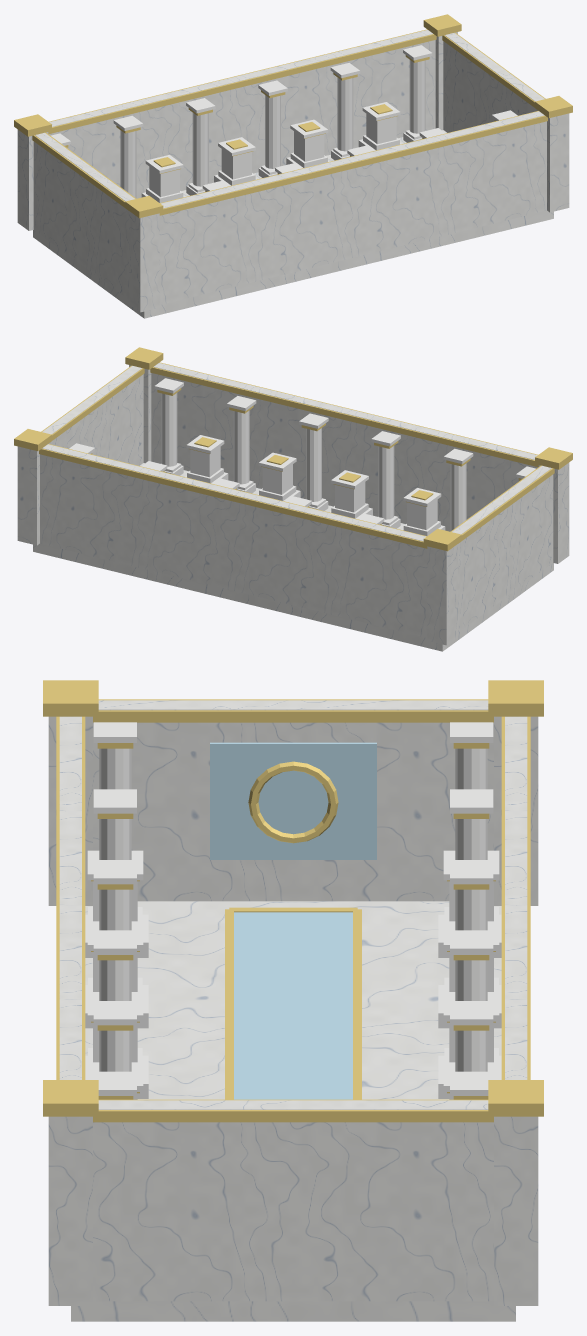
File: west.glb
3 renders of one model, top to bottom at view 1: azimuth 30°, elevation 25°; view 2: azimuth 150°, elevation 25°; view 3: azimuth 270°, elevation 25°, orthographic. The views are drawn at different scales.
Visible parts, largest first — view 1: W_Wall_S, W_Wall_N, W_Wall_Far, W_Floor, W_Wall_East, W_Cornice_N, W_Cornice_S, W_Post.001, W_Post.003, W_Post, Col_Shaft_0, Col_Shaft_3 (+14 smaller); view 2: W_Wall_N, W_Wall_S, W_Wall_Far, W_Floor, W_Wall_East, W_Cornice_S, W_Cornice_N, W_Post, W_Post.002, W_Post.001, Col_Shaft_6, Col_Shaft_9 (+14 smaller); view 3: W_Wall_East, W_Wall_Far, W_Floor, Runner_Field, W_Niche, W_Post.002, W_Post.003, W_Wall_N, W_Wall_S, W_Cornice_Far, W_Cornice_East, W_Post (+32 smaller).
Boxes of the visible parts, x1,y1,x2,y2 form: W_Wall_S: (159, 111, 546, 304); W_Wall_N: (49, 30, 435, 198); W_Wall_Far: (33, 132, 134, 299); W_Floor: (33, 130, 553, 318); W_Wall_East: (443, 33, 544, 132); W_Cornice_N: (48, 29, 436, 134); W_Cornice_S: (159, 111, 547, 215); W_Post.001: (129, 211, 159, 312); W_Post.003: (547, 113, 569, 212); W_Post: (17, 129, 48, 230); Col_Shaft_0: (409, 60, 425, 133); Col_Shaft_3: (192, 113, 208, 186); W_Wall_N: (40, 444, 427, 637); W_Wall_S: (151, 363, 537, 531); W_Wall_Far: (452, 465, 553, 632); W_Floor: (33, 463, 553, 651); W_Wall_East: (42, 366, 143, 465); W_Cornice_S: (150, 362, 538, 467); W_Cornice_N: (39, 444, 427, 548); W_Post: (427, 544, 457, 645); W_Post.002: (17, 446, 39, 545); W_Post.001: (538, 462, 569, 563); Col_Shaft_6: (161, 393, 177, 466); Col_Shaft_9: (378, 446, 394, 519); W_Wall_East: (93, 1100, 493, 1301); W_Wall_Far: (93, 700, 493, 901); W_Floor: (71, 901, 515, 1321); Runner_Field: (234, 912, 352, 1099); W_Niche: (210, 742, 376, 859); W_Post.002: (494, 1116, 538, 1305); W_Post.003: (48, 1116, 92, 1305); W_Wall_N: (505, 716, 527, 1079); W_Wall_S: (59, 716, 81, 1079); W_Cornice_Far: (93, 699, 493, 722); W_Cornice_East: (93, 1099, 493, 1122); W_Post: (494, 716, 538, 905).
Bounding box in the file's own units: 18 × 4.56 × 9.
6 materials, 1 textured.
